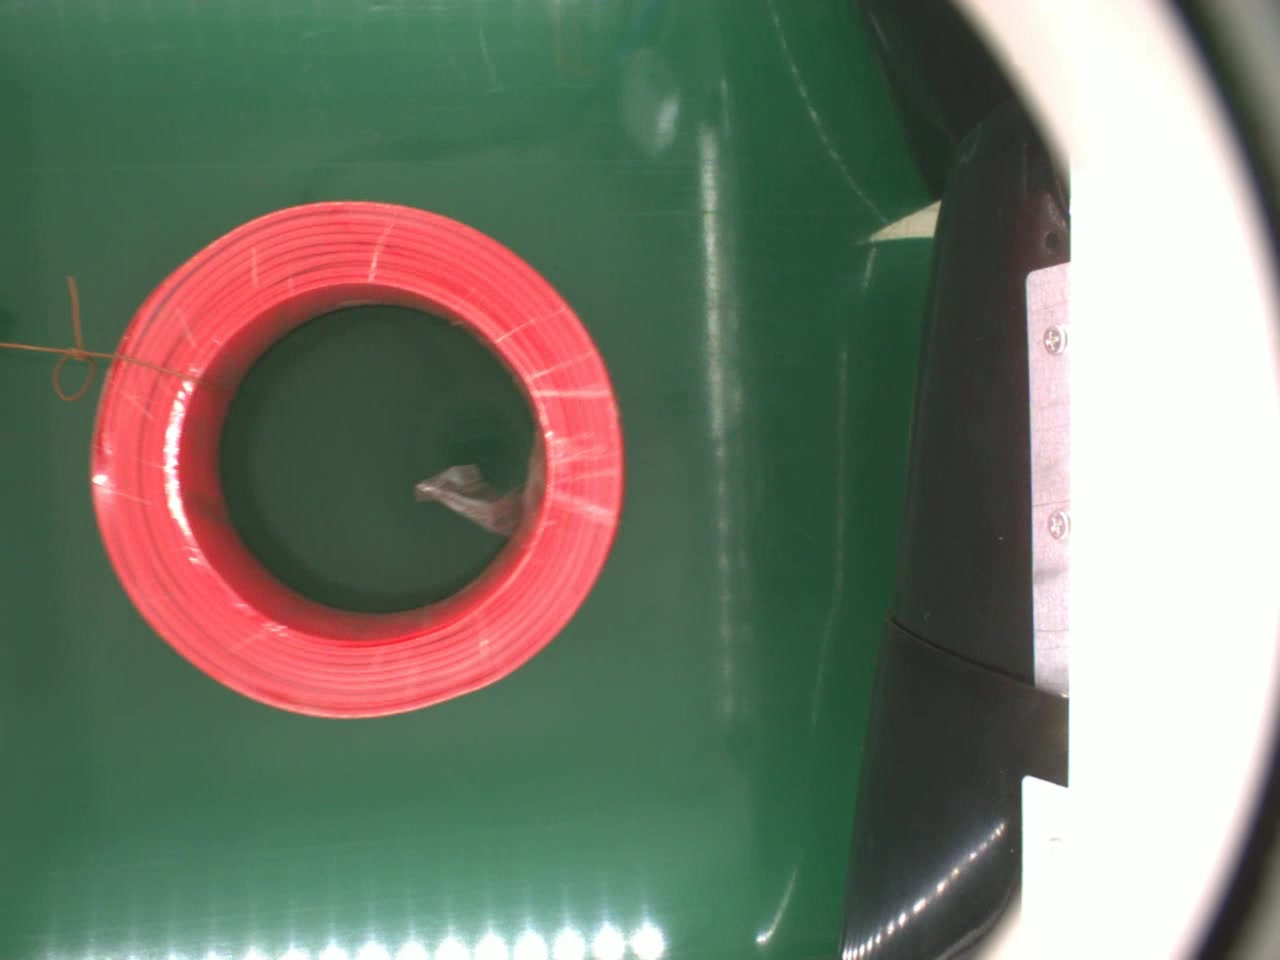red: (90, 193, 627, 720)
